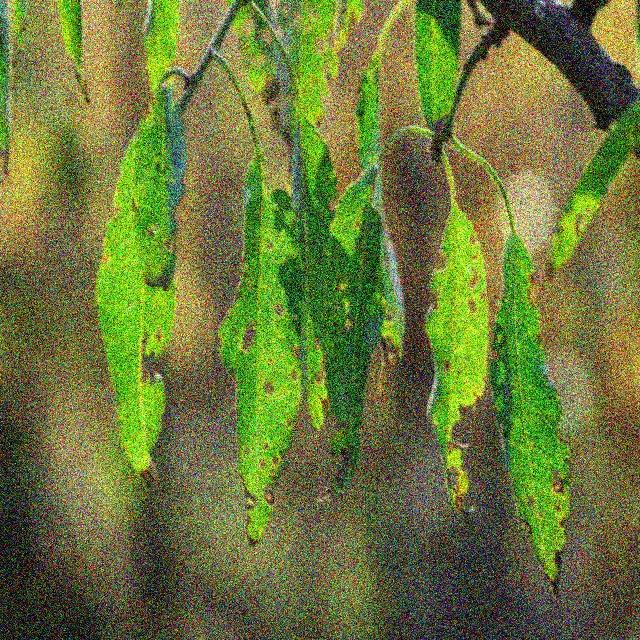leaf_spot: (372, 108, 570, 610), (459, 212, 636, 634), (214, 190, 316, 599)
